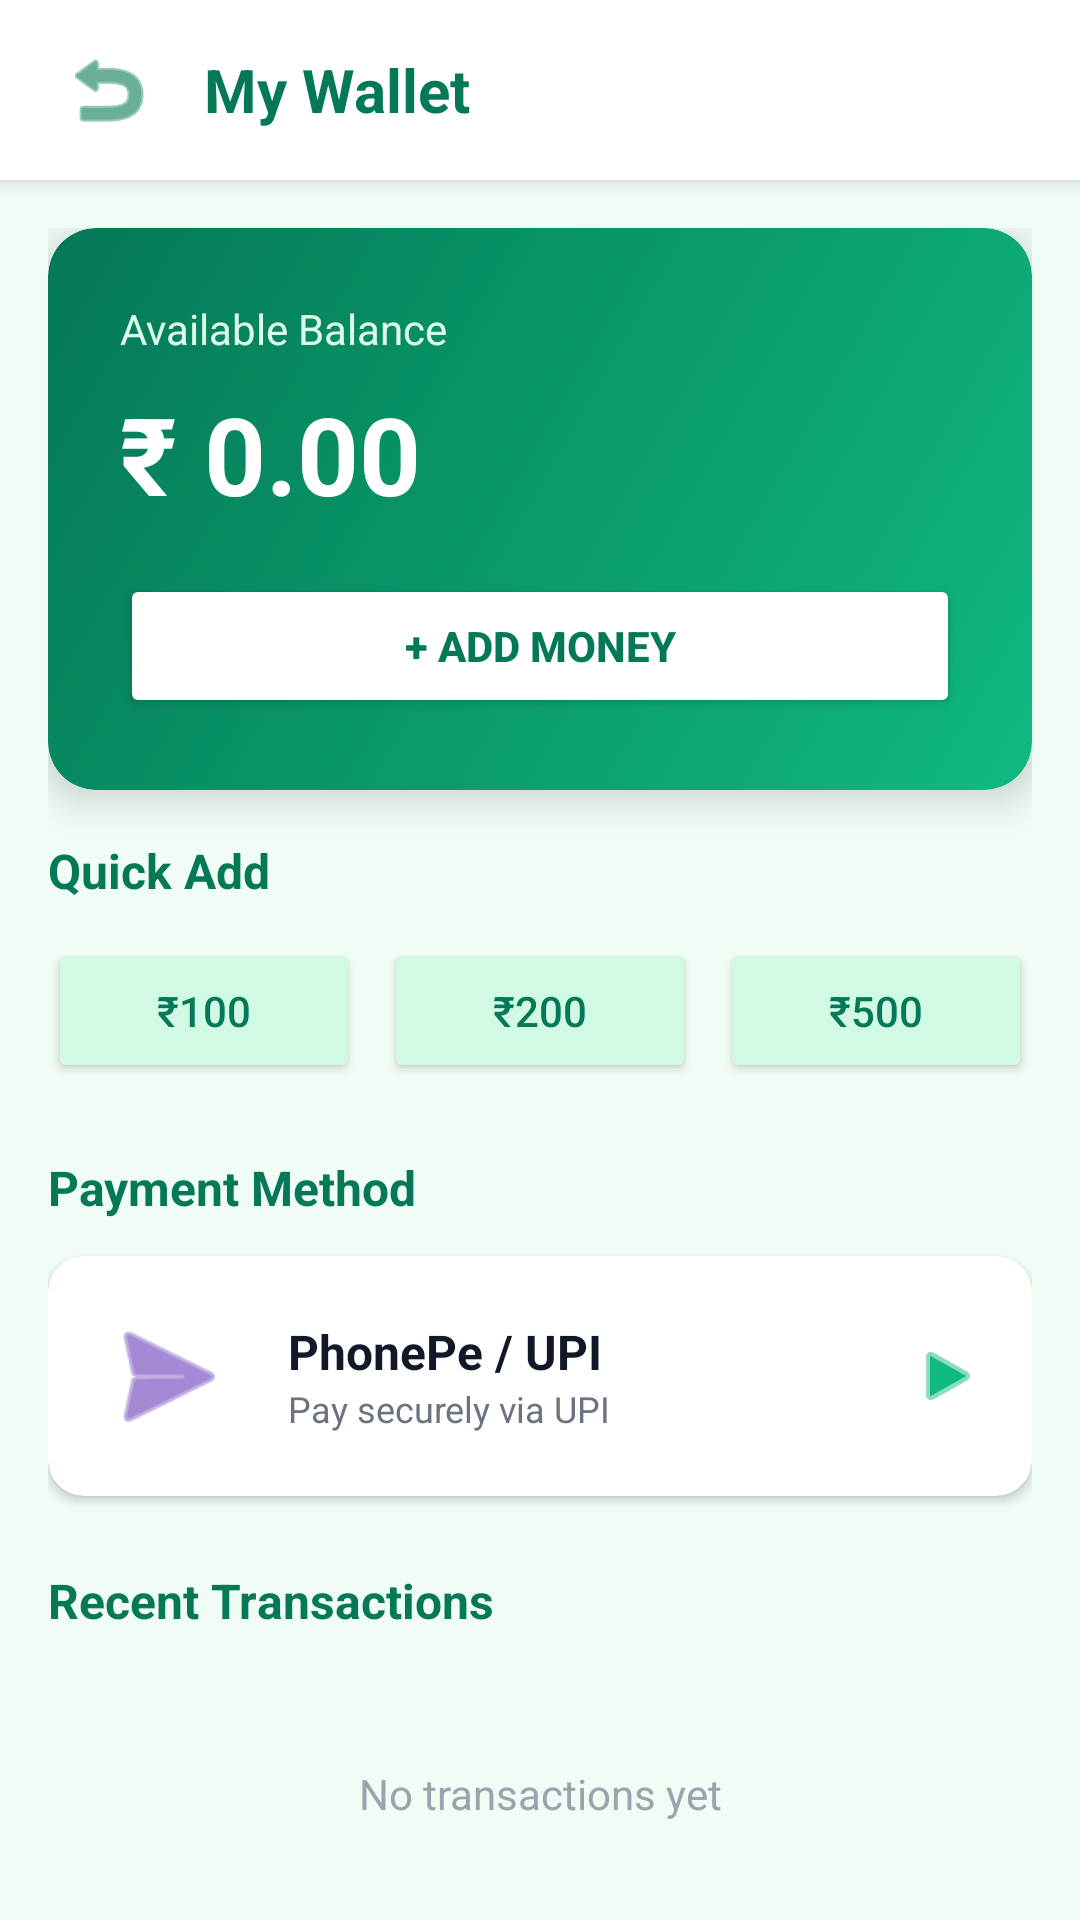

Where icons sit on this 1080w x 1920h app screen, as (x1,y1,x2,y2):
play: (926,1352,970,1400)
revert: (75,59,144,122)
send: (123,1331,215,1422)
